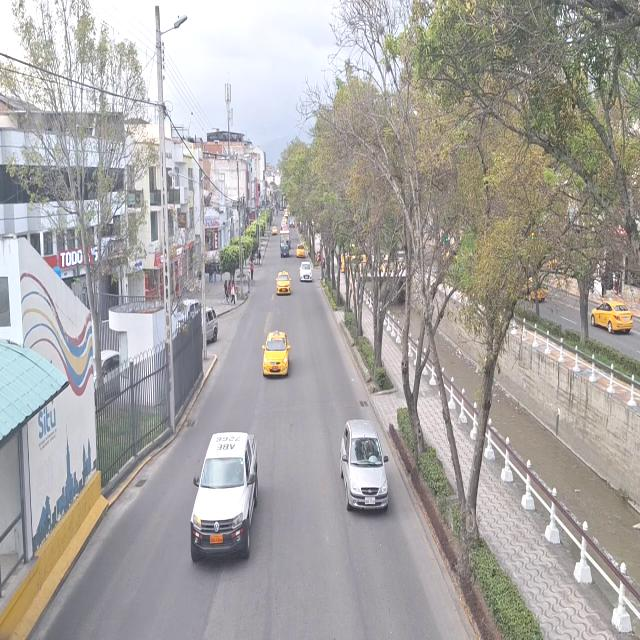CMT: (192, 426, 260, 570)
SED: (342, 426, 388, 513), (264, 333, 290, 376)
